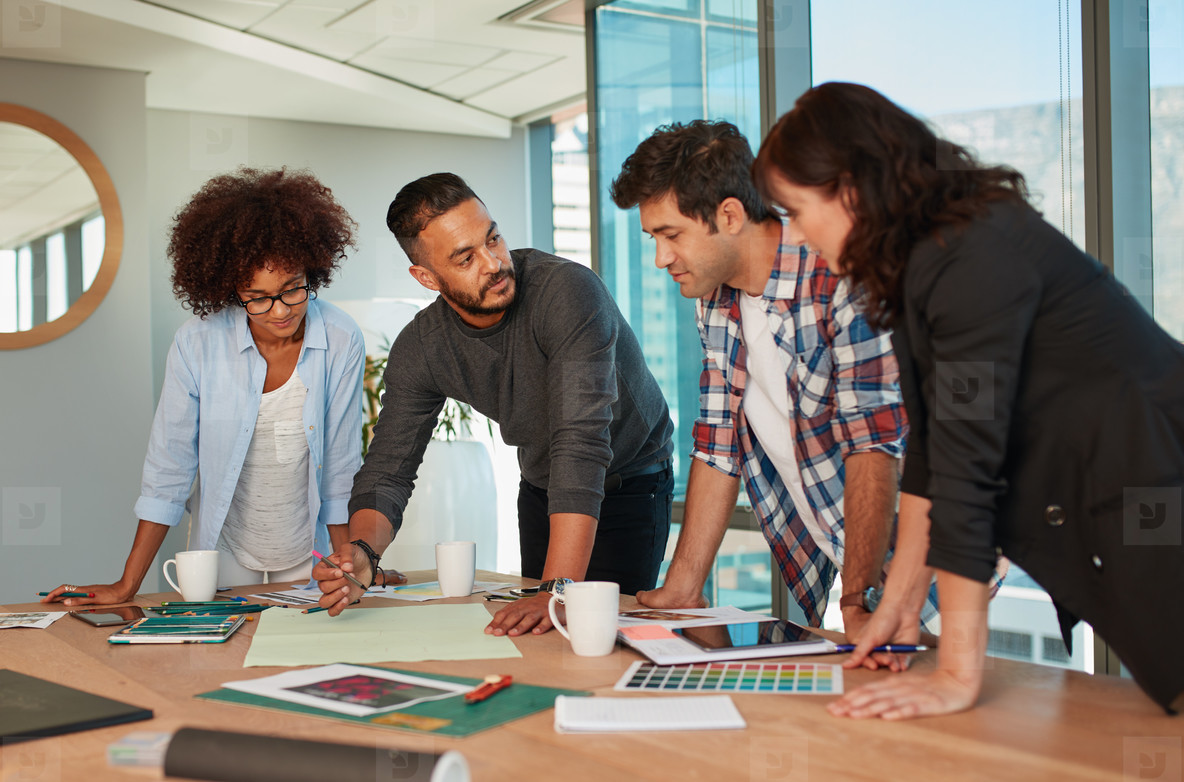Person: (745, 66, 1184, 737), (310, 154, 683, 670), (597, 112, 916, 670), (47, 149, 414, 620)
